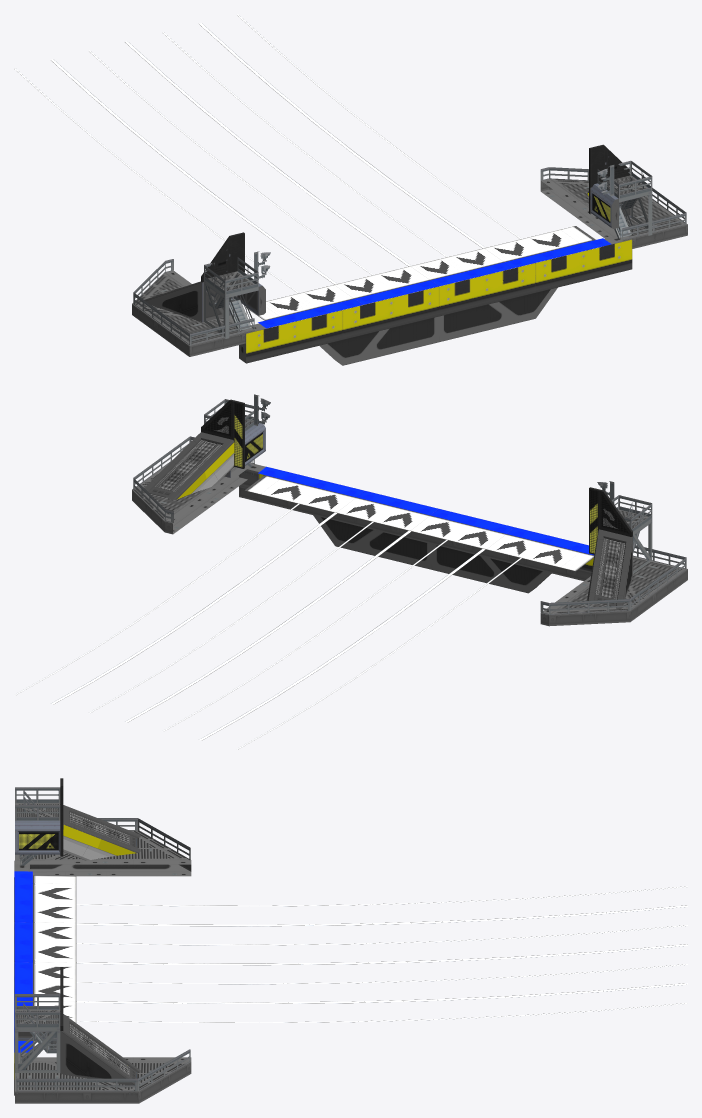
Rendered from jump_gate_area_curved_2.fbx.
3 renders of one model, top to bottom at view 1: azimuth 30°, elevation 25°; view 2: azimuth 150°, elevation 25°; view 3: azimuth 270°, elevation 25°, orthographic. The views are drawn at different scales.
Visible parts, largest first — view 1: gate, frontplate_jump, slp_to_flt_lines_jump_down; view 2: gate, slp_to_flt_lines_jump_down, frontplate_jump; view 3: gate, slp_to_flt_lines_jump_down.
Part boxes in pixels (x1=…): gate: x1=132, y1=144, x2=687, y2=356; frontplate_jump: x1=239, y1=236, x2=632, y2=365; slp_to_flt_lines_jump_down: x1=14, y1=14, x2=611, y2=328; gate: x1=132, y1=394, x2=687, y2=626; slp_to_flt_lines_jump_down: x1=14, y1=466, x2=594, y2=749; frontplate_jump: x1=238, y1=464, x2=593, y2=593; gate: x1=15, y1=778, x2=191, y2=1103; slp_to_flt_lines_jump_down: x1=14, y1=871, x2=687, y2=1052.
Size of the model in its own units: 5885 by 1526 by 6407.
